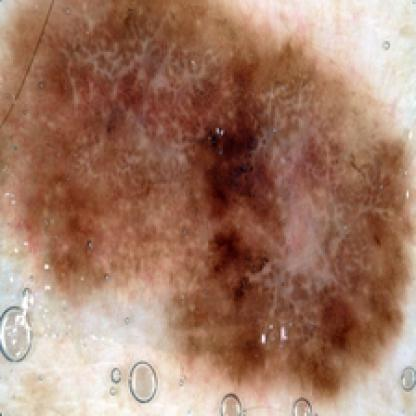malignant: (26, 39, 379, 357)
